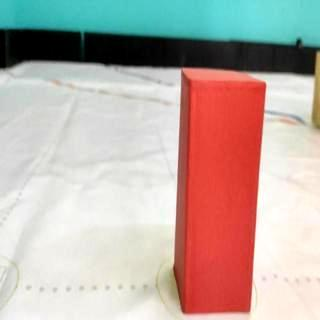redbox: (178, 70, 264, 312)
